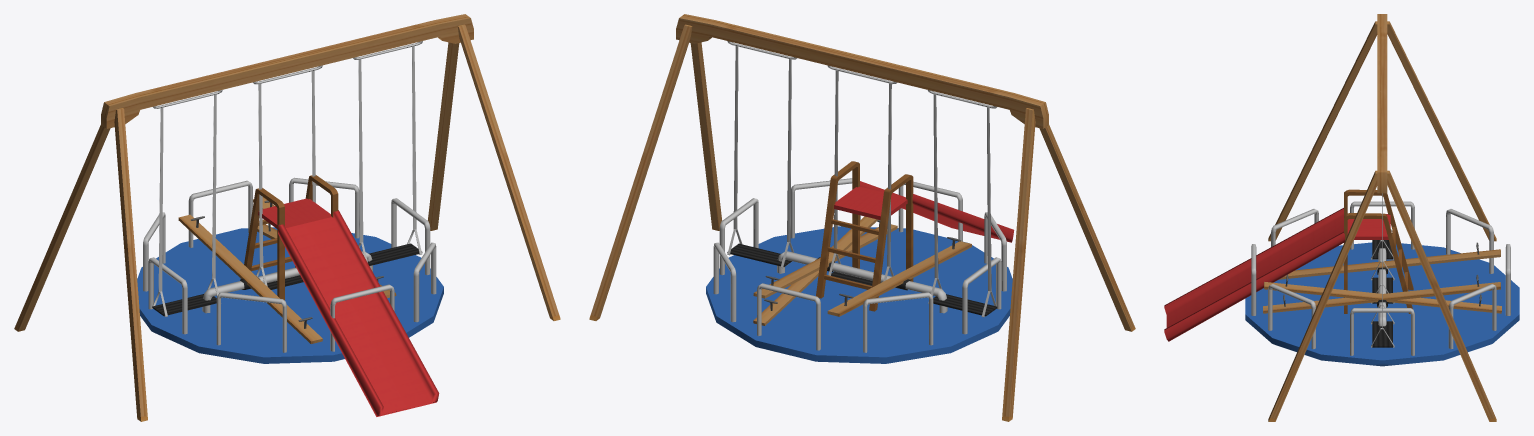
The model's file is ParkAssetsV1.fbx.
3 renders of one model, left to right at view 1: azimuth 30°, elevation 25°; view 2: azimuth 150°, elevation 25°; view 3: azimuth 270°, elevation 25°, orthographic. The views are drawn at different scales.
Parts seen in each view (by area): view 1: Swing_001, PlarkAsset_02, ParkAsset_04_v1, ParkAsset_03_v1, ParkAsset_03_v2; view 2: PlarkAsset_02, Swing_001, ParkAsset_04_v1, ParkAsset_03_v1, ParkAsset_03_v2; view 3: PlarkAsset_02, Swing_001, ParkAsset_04_v1, ParkAsset_03_v1, ParkAsset_03_v2.
Part boxes in pixels (bbox=[...]): Swing_001: bbox=[14, 14, 560, 421]; PlarkAsset_02: bbox=[137, 177, 443, 363]; ParkAsset_04_v1: bbox=[244, 175, 439, 416]; ParkAsset_03_v1: bbox=[179, 214, 396, 343]; ParkAsset_03_v2: bbox=[178, 197, 369, 343]; PlarkAsset_02: bbox=[706, 178, 1012, 363]; Swing_001: bbox=[589, 14, 1135, 421]; ParkAsset_04_v1: bbox=[816, 161, 1014, 311]; ParkAsset_03_v1: bbox=[753, 216, 970, 325]; ParkAsset_03_v2: bbox=[753, 220, 971, 316]; PlarkAsset_02: bbox=[1245, 201, 1519, 366]; Swing_001: bbox=[1268, 14, 1496, 421]; ParkAsset_04_v1: bbox=[1164, 189, 1413, 341]; ParkAsset_03_v1: bbox=[1264, 244, 1501, 326]; ParkAsset_03_v2: bbox=[1263, 242, 1500, 319].
Size of the model in its own units: 24.4 by 14.76 by 19.95.
